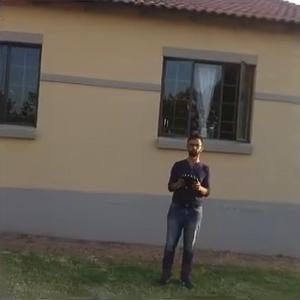follow: (155, 128, 211, 294)
